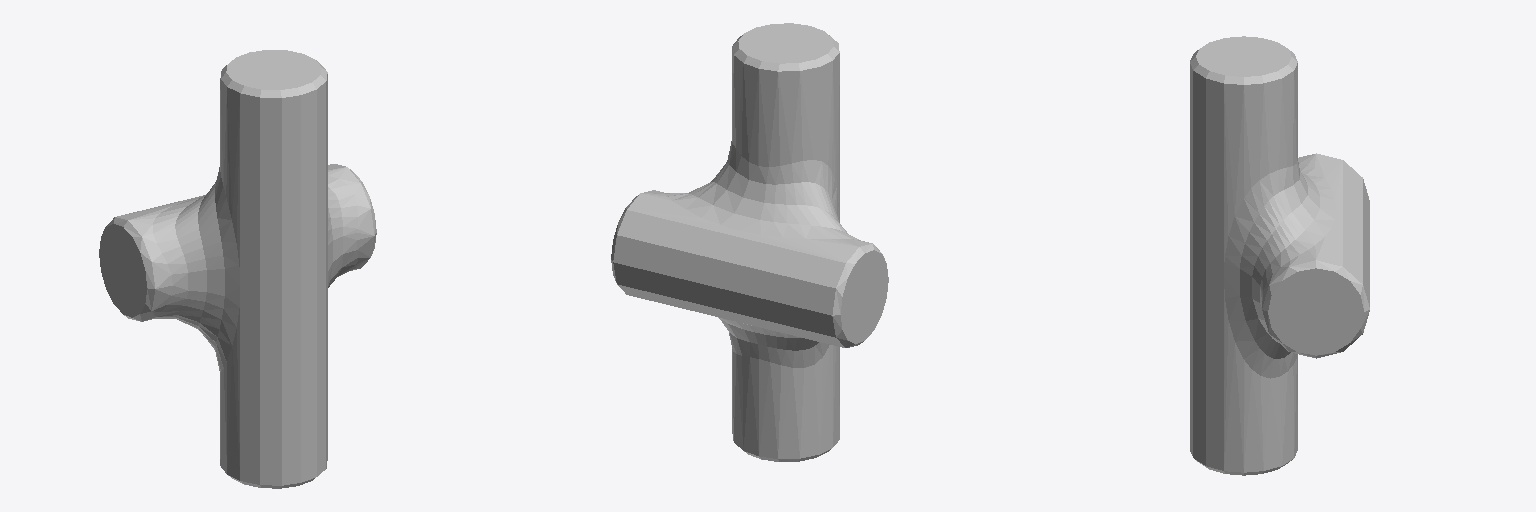
File: right_ankle.obj
3 renders of one model, left to right at view 1: azimuth 30°, elevation 25°; view 2: azimuth 150°, elevation 25°; view 3: azimuth 270°, elevation 25°, orthographic.
Visible parts, largest first — view 1: AnklePitchLink; view 2: AnklePitchLink; view 3: AnklePitchLink.
Boxes of the visible parts, x1=… form: AnklePitchLink: x1=99, y1=50, x2=376, y2=488; AnklePitchLink: x1=611, y1=23, x2=888, y2=461; AnklePitchLink: x1=1190, y1=36, x2=1369, y2=475.
Bounding box in the file's own units: 0.044 × 0.073 × 0.03.